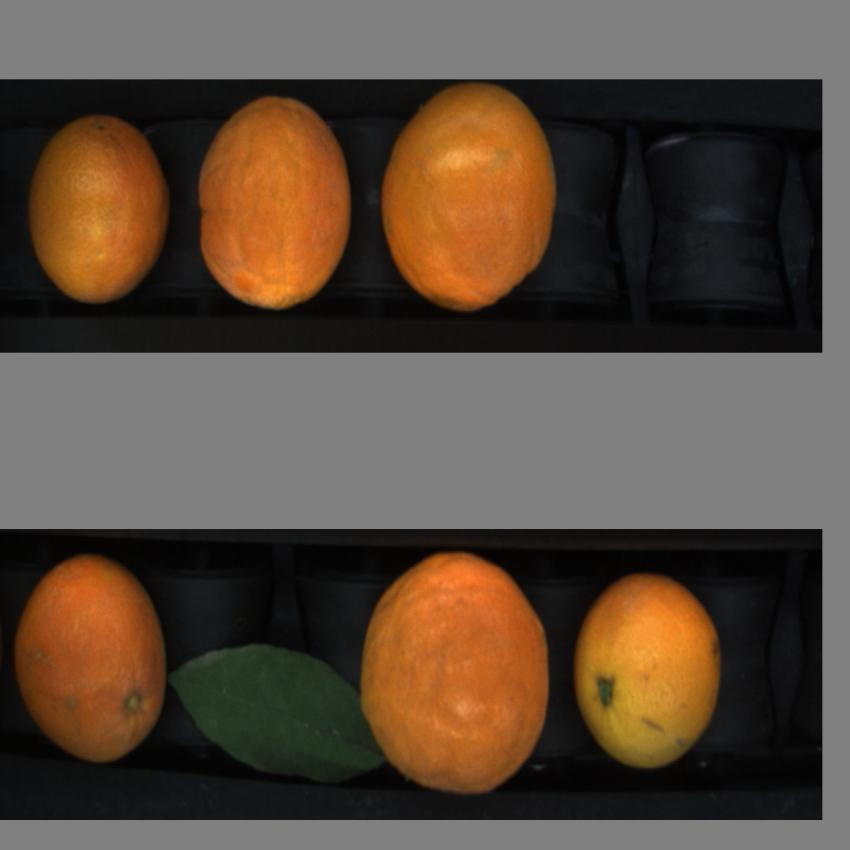Buen estado: (566, 567, 730, 783), (22, 110, 173, 312)
Mal estado: (355, 548, 558, 796), (374, 82, 565, 317), (192, 94, 364, 310), (11, 549, 170, 772)
